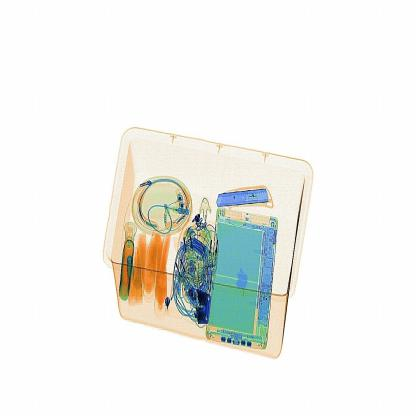gun: (212, 183, 285, 216)
